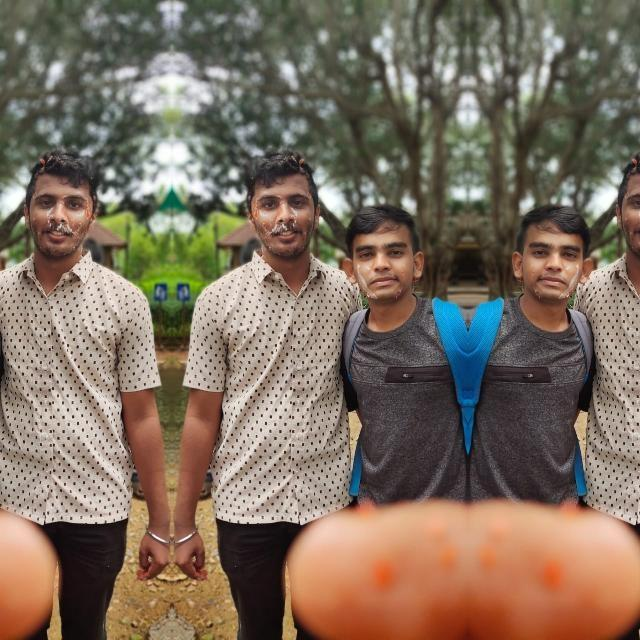person: (178, 140, 346, 640), (0, 140, 164, 639), (328, 189, 468, 585), (467, 189, 607, 585), (588, 140, 640, 639), (0, 189, 14, 585)
